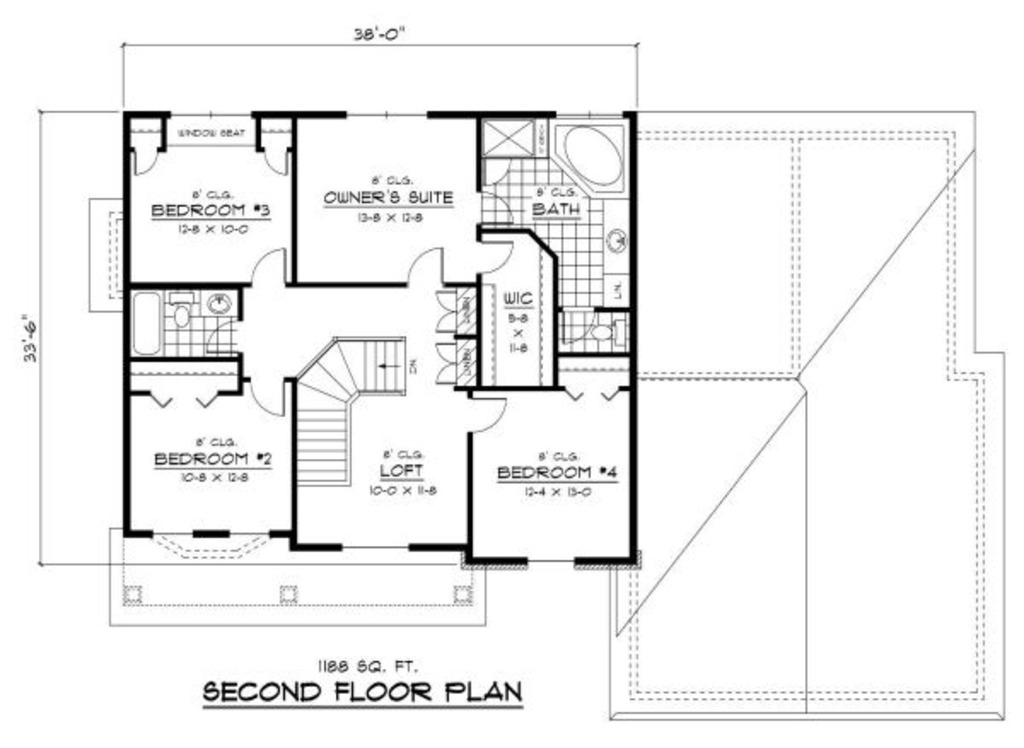door: (247, 376, 293, 424), (248, 243, 289, 294), (466, 393, 510, 437), (404, 250, 447, 290), (473, 237, 516, 276), (432, 338, 461, 386), (261, 144, 294, 183), (129, 146, 163, 177), (436, 287, 455, 335)
large_sink: (167, 290, 198, 330), (588, 319, 627, 350)
small_sink: (602, 196, 631, 277)
stairs: (295, 336, 415, 494)
tub: (550, 118, 628, 201), (126, 287, 166, 362)
windows: (336, 103, 432, 125), (165, 106, 254, 122), (336, 539, 414, 557), (522, 555, 581, 575)
